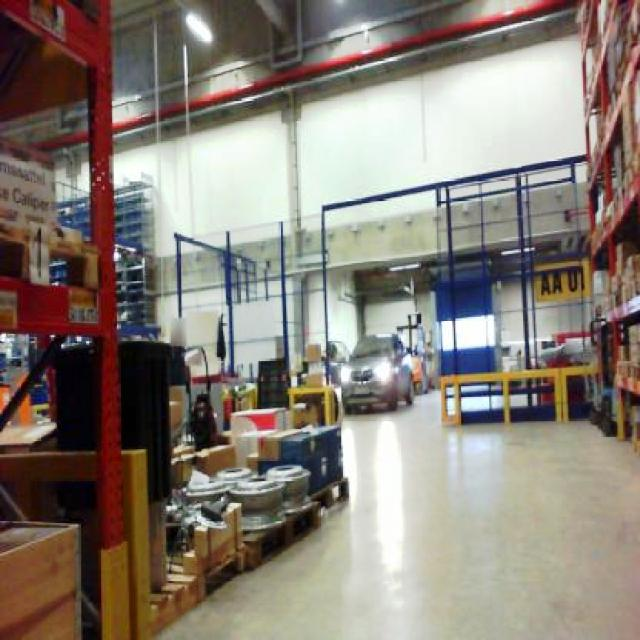ground: (140, 383, 638, 638)
pallet: (0, 349, 349, 638), (143, 414, 348, 635), (574, 0, 638, 638), (0, 446, 151, 638), (0, 514, 83, 638), (437, 362, 594, 426)
